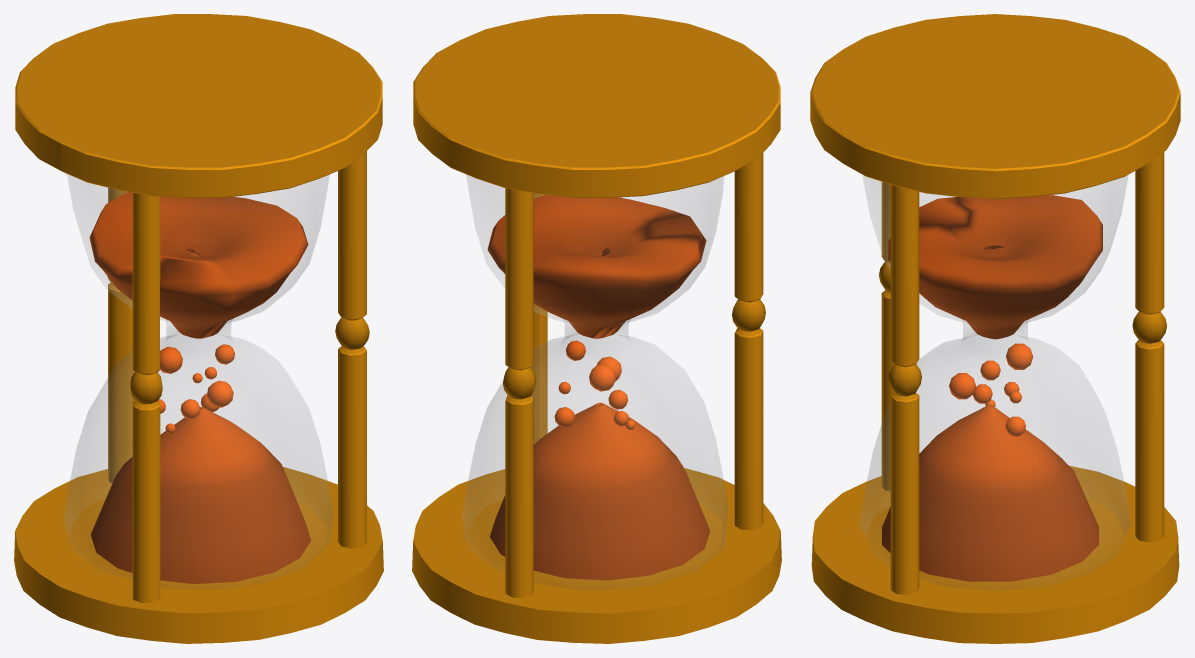
File: Hour Glass.fbx
The picture shows the model from 3 angles, left to right: view 1: azimuth 30°, elevation 25°; view 2: azimuth 150°, elevation 25°; view 3: azimuth 270°, elevation 25°; orthographic projection.
Parts seen in each view (by area): view 1: Hour_Glass; view 2: Hour_Glass; view 3: Hour_Glass.
Boxes of the visible parts, x1,y1,x2,y2 form: Hour_Glass: [14, 14, 383, 643]; Hour_Glass: [412, 14, 781, 643]; Hour_Glass: [810, 14, 1180, 643].
Bounding box in the file's own units: 171 × 241 × 171.
